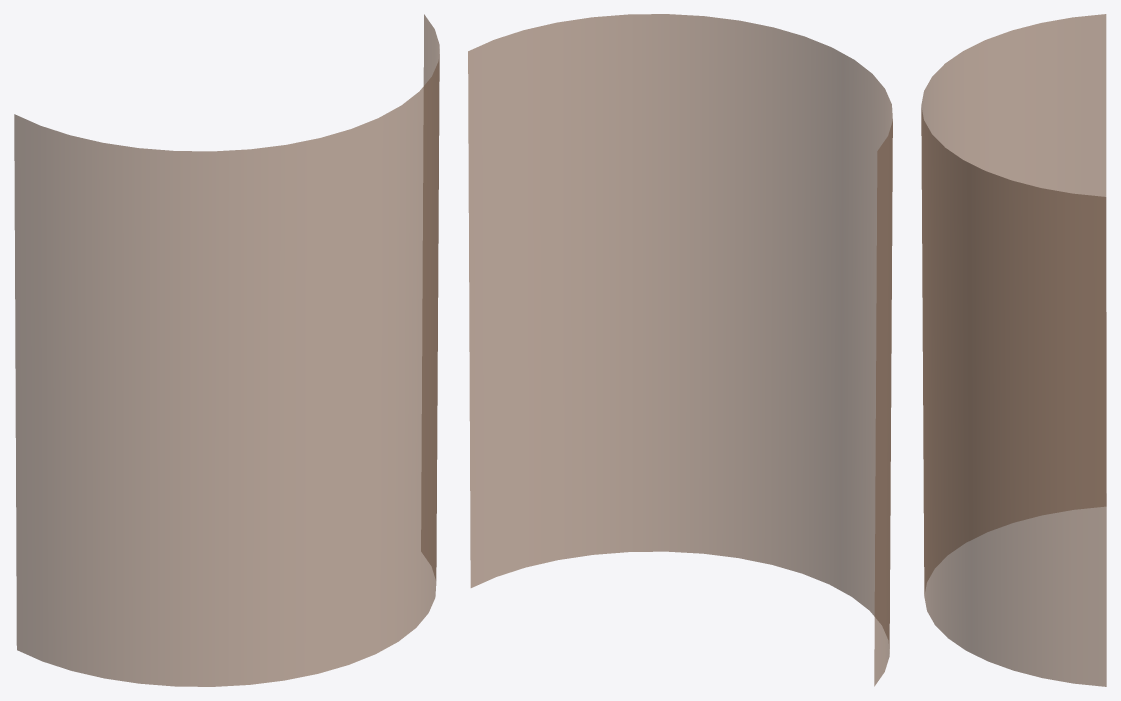
The model's file is BierEtikette.fbx.
The picture shows the model from 3 angles, left to right: view 1: azimuth 30°, elevation 25°; view 2: azimuth 150°, elevation 25°; view 3: azimuth 270°, elevation 25°; orthographic projection. The views are drawn at different scales.
Visible parts, largest first — view 1: Bierfalsche.001; view 2: Bierfalsche.001; view 3: Bierfalsche.001.
Part boxes in pixels (x1,y1,x2,y2): Bierfalsche.001: (14,14,439,686); Bierfalsche.001: (468,14,892,686); Bierfalsche.001: (921,14,1106,686).
Size of the model in its own units: 7.13 by 8.93 by 3.05.
